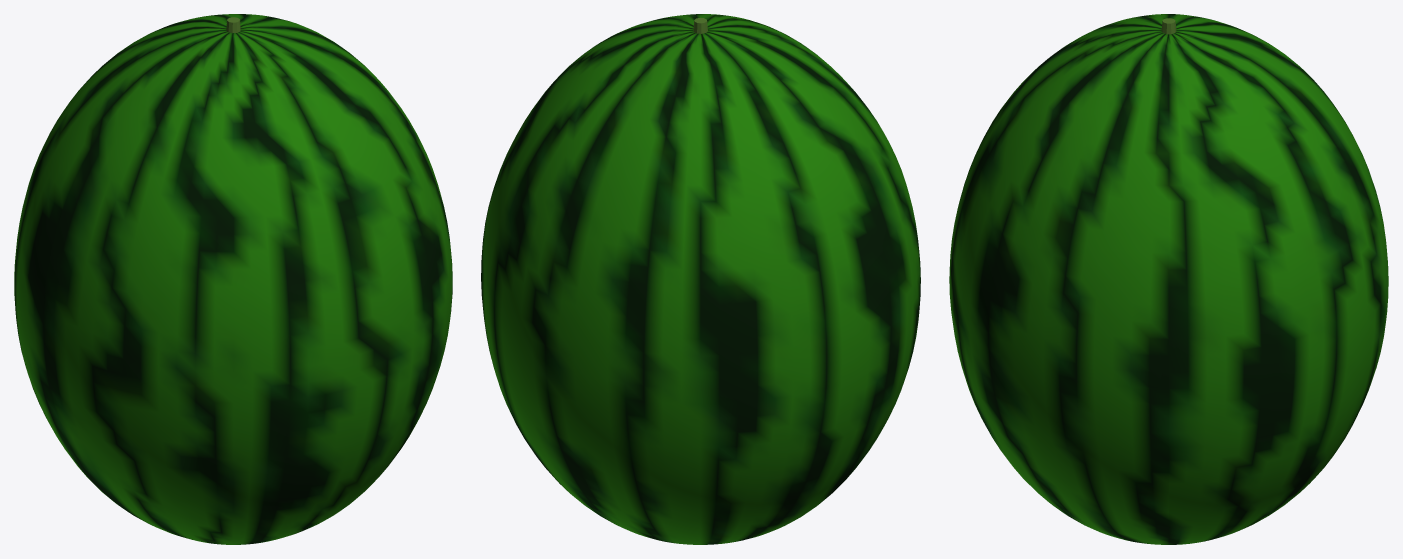
The model's file is pasteque.glb.
3 views of the same model, side by side, from view 1: azimuth 30°, elevation 25°; view 2: azimuth 150°, elevation 25°; view 3: azimuth 270°, elevation 25° (orthographic).
Parts seen in each view (by area): view 1: entier_peau, moitie_B_peau, moitie_A_peau; view 2: moitie_A_peau, entier_peau, moitie_B_peau; view 3: entier_peau, moitie_A_peau, moitie_B_peau.
Boxes of the visible parts, x1,y1,x2,y2 form: entier_peau: (14,14,452,544); moitie_B_peau: (43,26,452,544); moitie_A_peau: (14,14,337,501); moitie_A_peau: (481,26,891,544); entier_peau: (481,14,920,544); moitie_B_peau: (599,14,920,496); entier_peau: (949,14,1388,544); moitie_A_peau: (1169,14,1388,544); moitie_B_peau: (950,14,1168,544).
Bounding box in the file's own units: 1.6 × 2.04 × 1.6.
